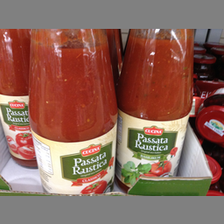tomato_sauce: (26, 30, 117, 194), (118, 30, 195, 191)
